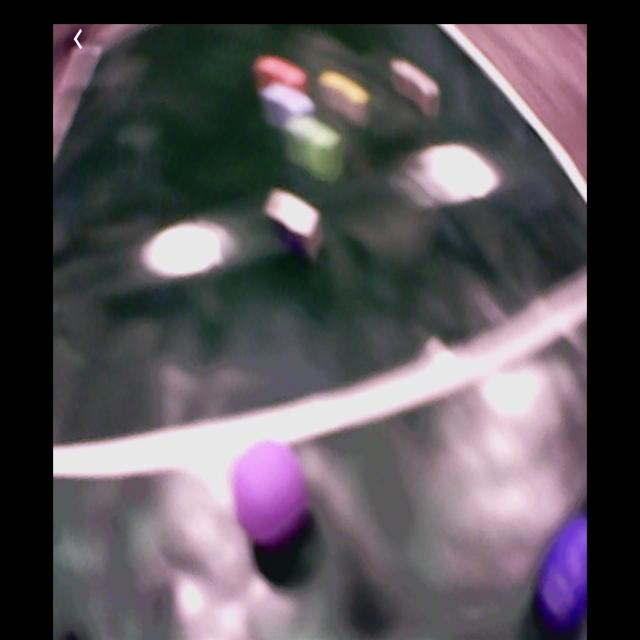ball: (233, 441, 306, 540), (536, 511, 587, 625)
